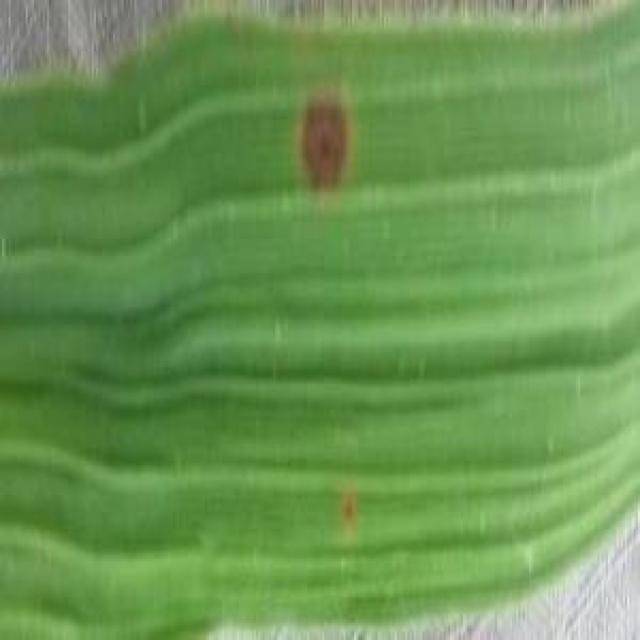Brown_Spot: (273, 87, 364, 203), (328, 501, 369, 540)
